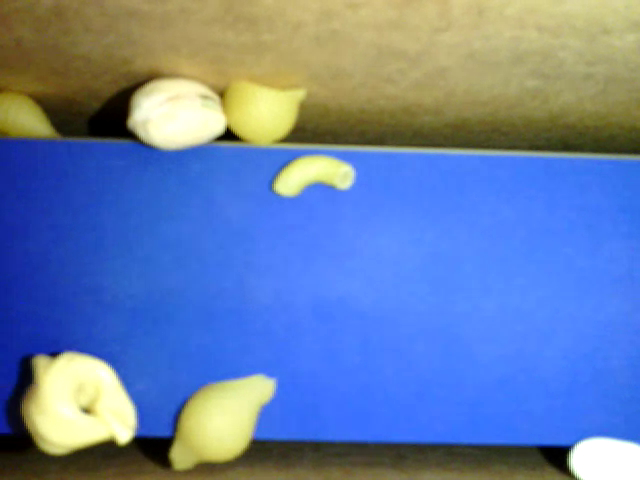elbow: (270, 153, 355, 198)
shell: (169, 372, 278, 468), (217, 73, 308, 147), (1, 91, 67, 139)
tortellini: (23, 350, 137, 457)
